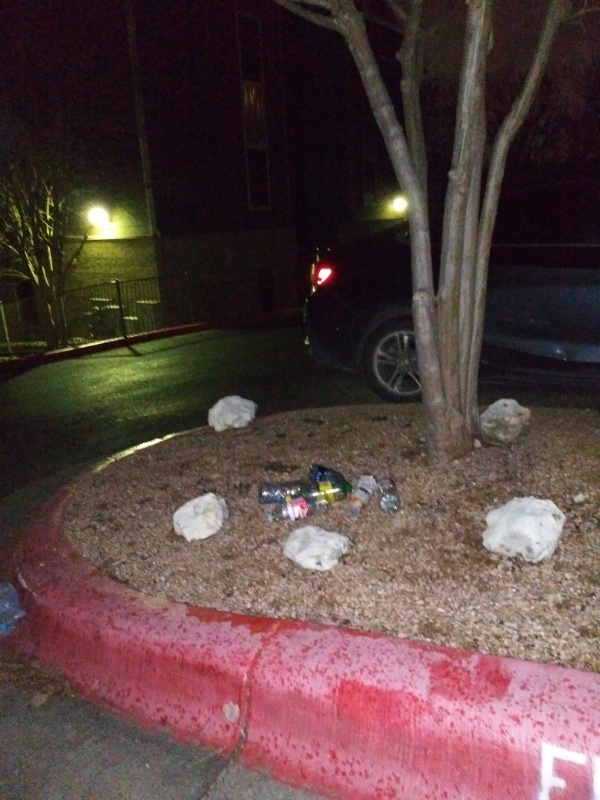bottle: (263, 495, 332, 526), (346, 469, 381, 520), (255, 480, 316, 506), (304, 459, 351, 492), (374, 473, 407, 517)
